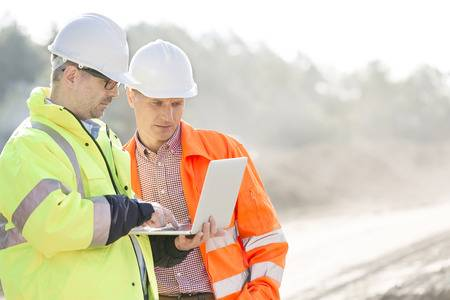casco: (46, 11, 139, 89), (123, 38, 199, 100)
